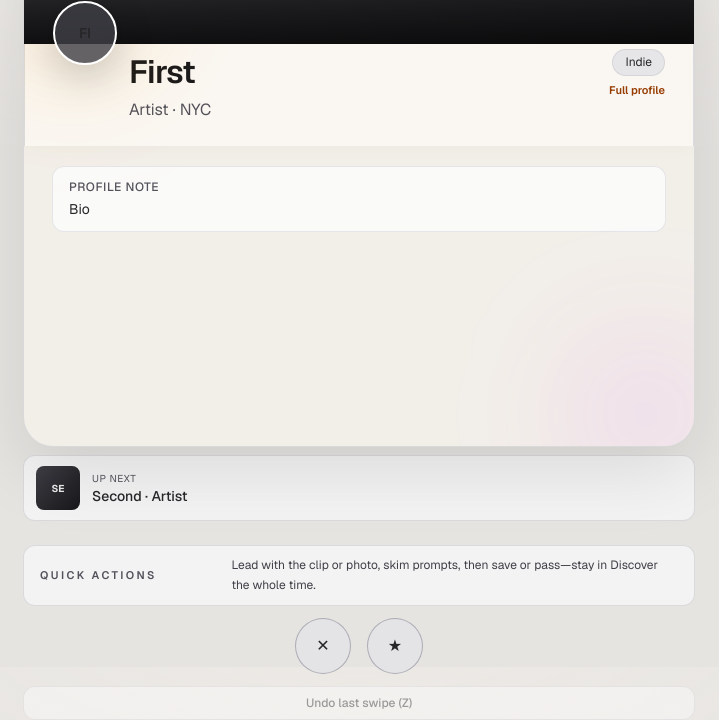
it: SwipeStack › shows the next card after tapping pass
The width and height of the screenshot is (719, 720).
(page scrolled)
Check: the heading "First" is shown, box [129,51,195,92]
Click the button named "Pass" at (323, 646), box [295,618,351,674]
Wait 230 ms
(page scrolled)
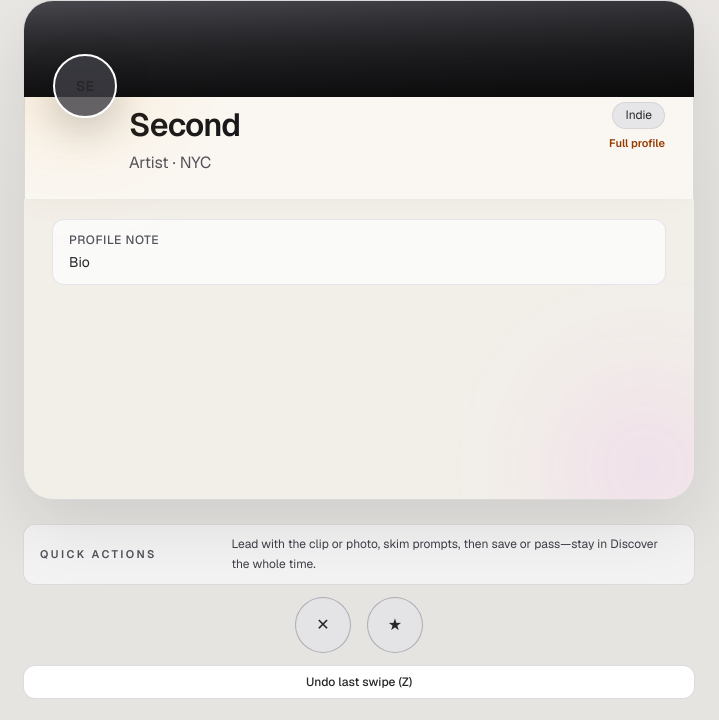
Check: the heading "Second" is shown, box [129,104,240,147]
